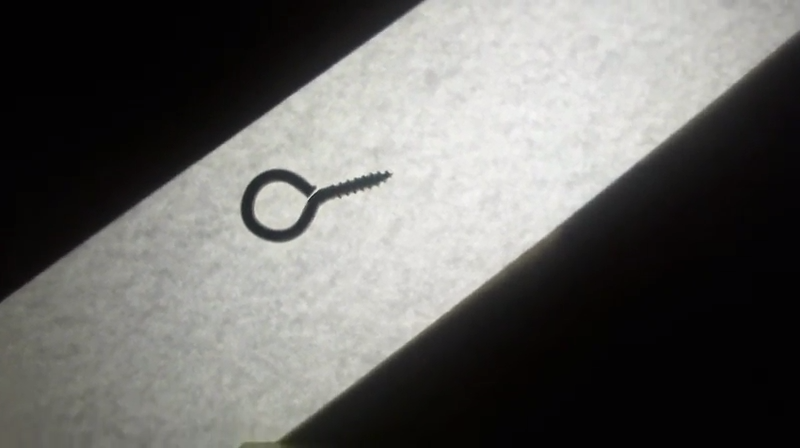O001: (236, 166, 394, 246)
